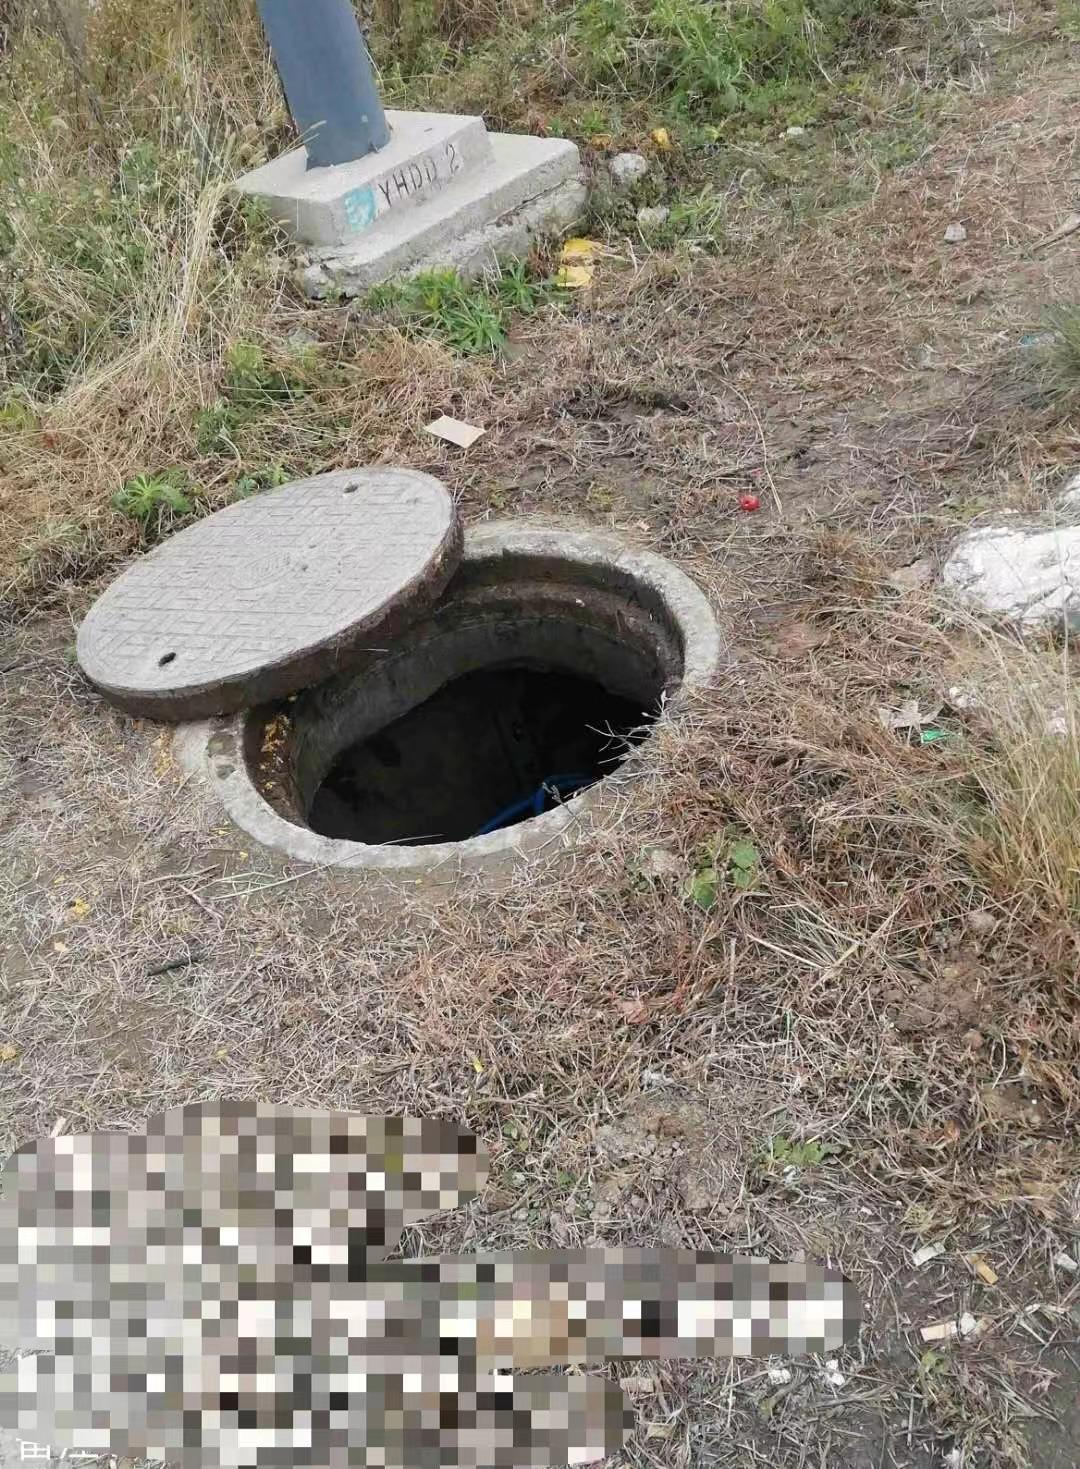wellcover: (68, 465, 712, 870)
